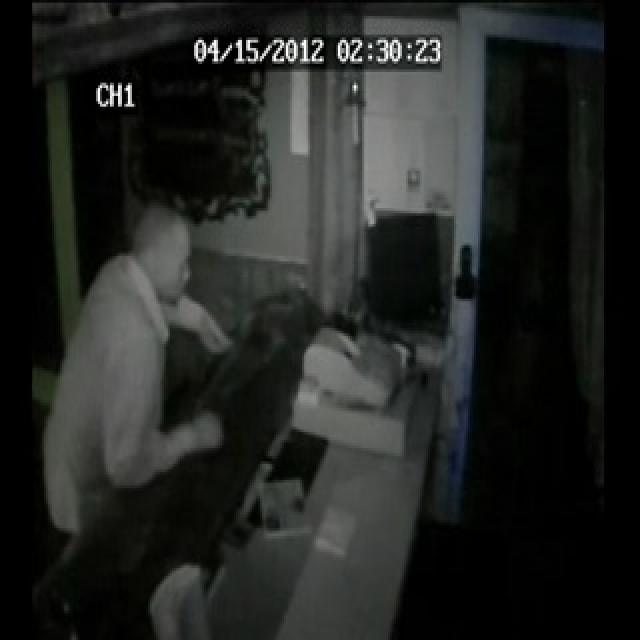thief: (115, 170, 209, 356)
